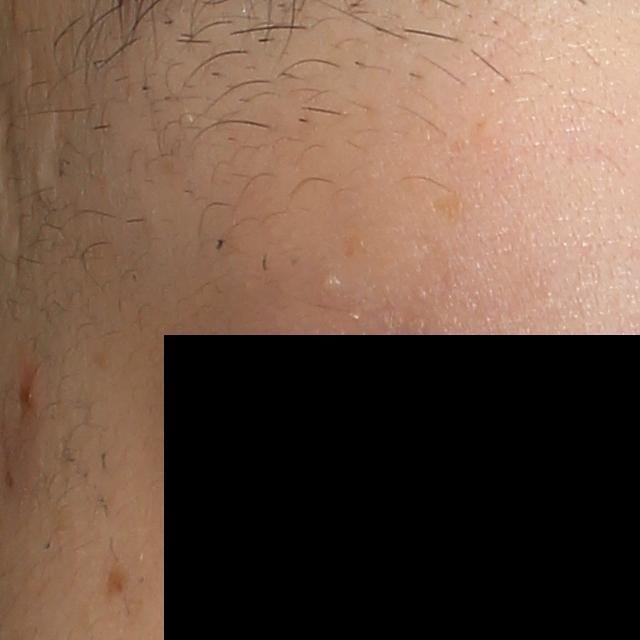papule: (16, 370, 48, 414)
